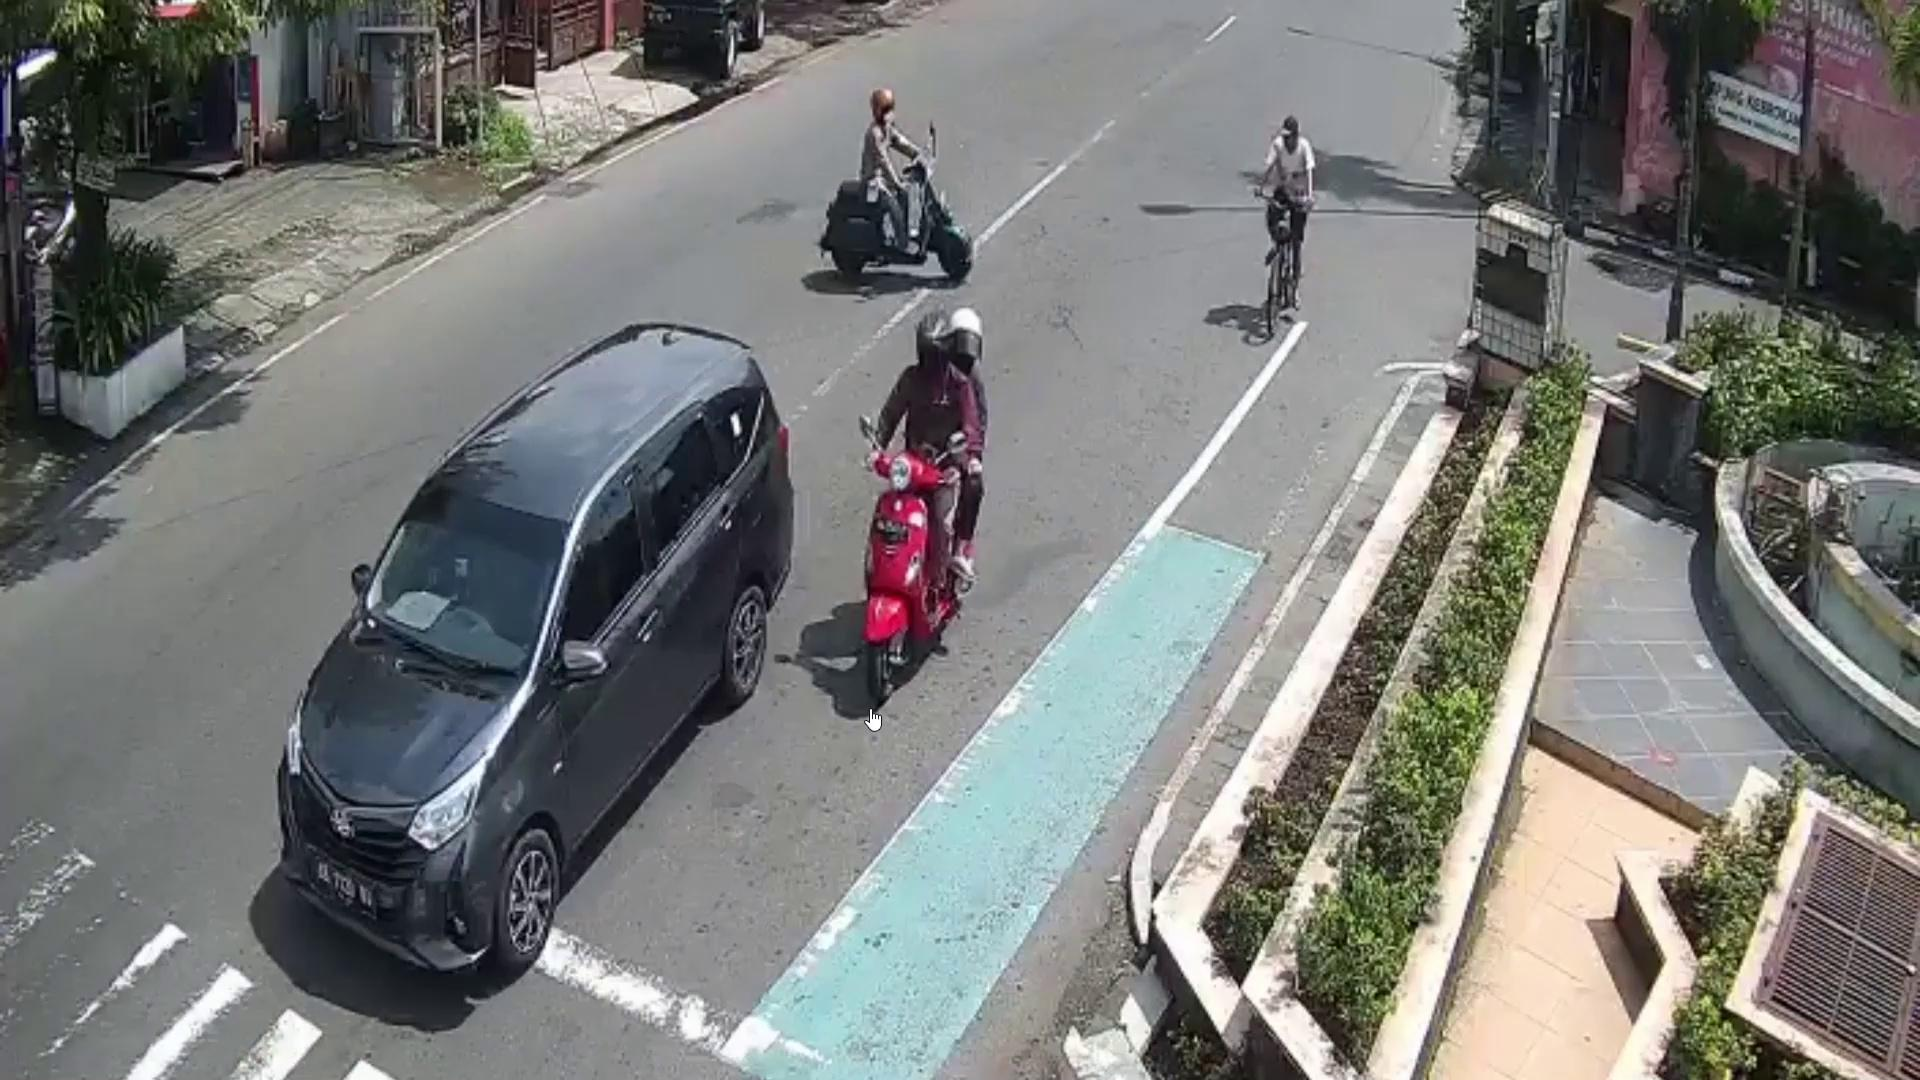car: (282, 323, 794, 981)
motorbike: (819, 153, 971, 297), (862, 443, 940, 715)
